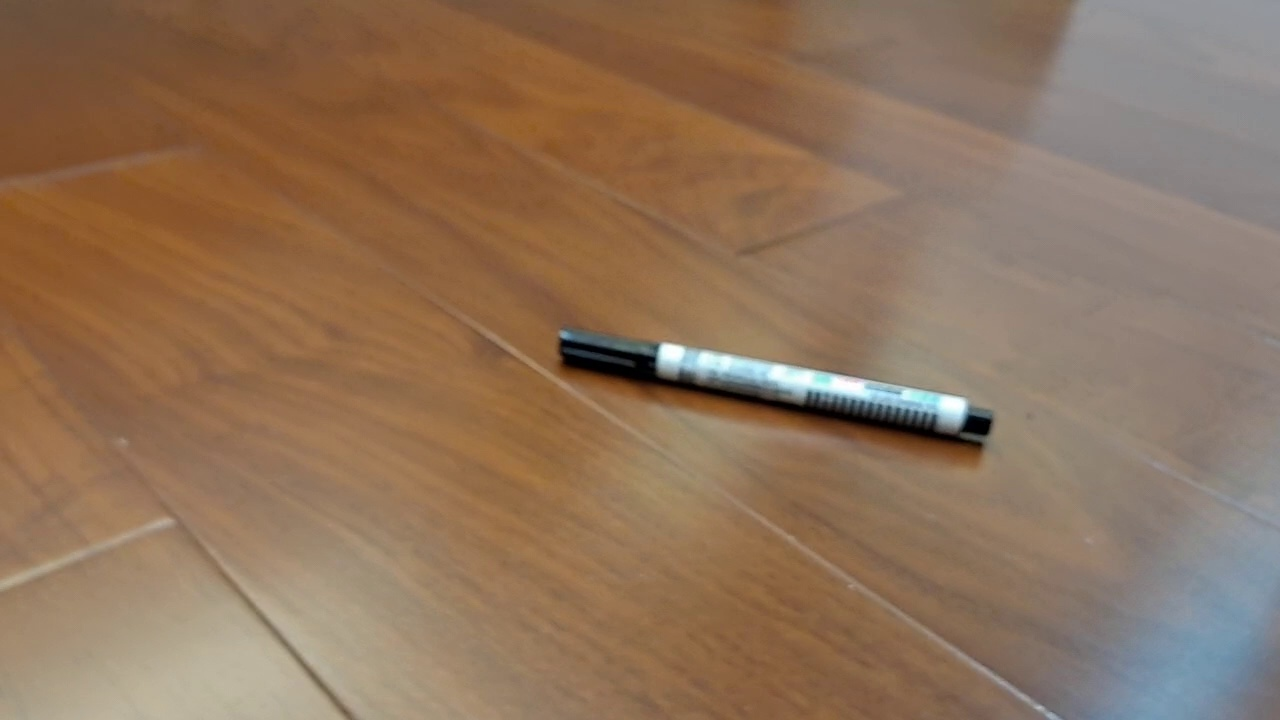pen: (556, 325, 994, 441)
